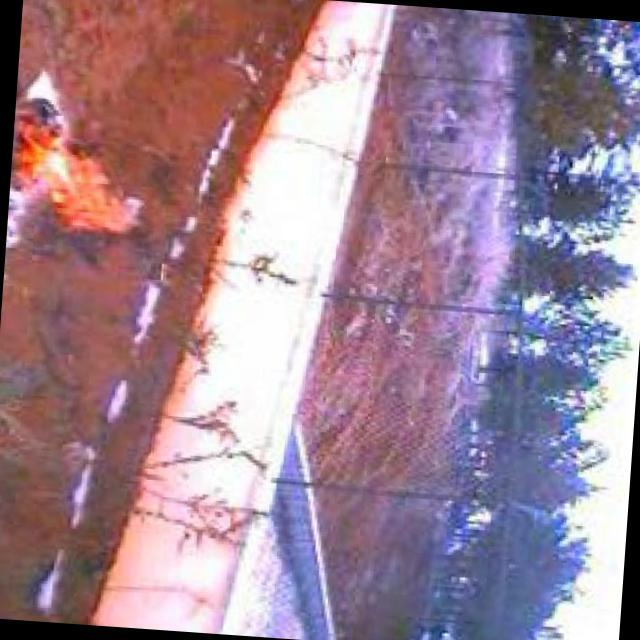Fire: (7, 100, 156, 237)
